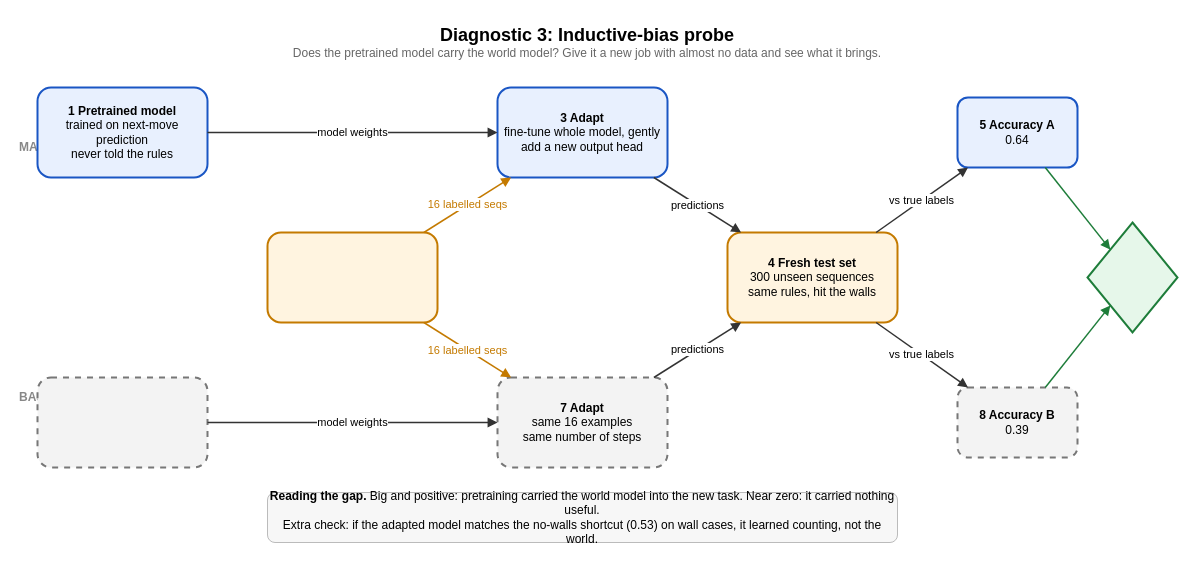
Some shapes in this 1195 by 563 pixel diagram are drawn without their labels. The centre of each missing label's shape, as x and y in pixels:
2 New task "where is the walker now?" only 16 labelled examples: (352,277)
6 Untrained model same architecture random weights: (122,422)
9 Gap A minus B +0.25: (1132,277)
